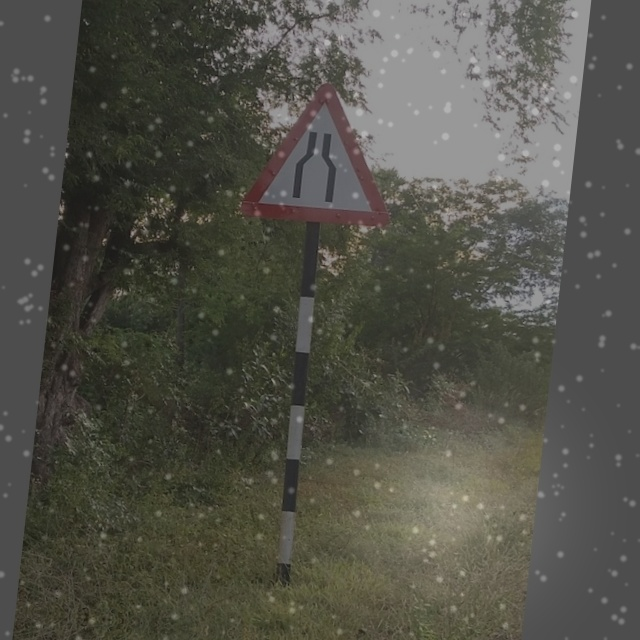Narrow_Road_Ahead: (233, 71, 407, 235)
